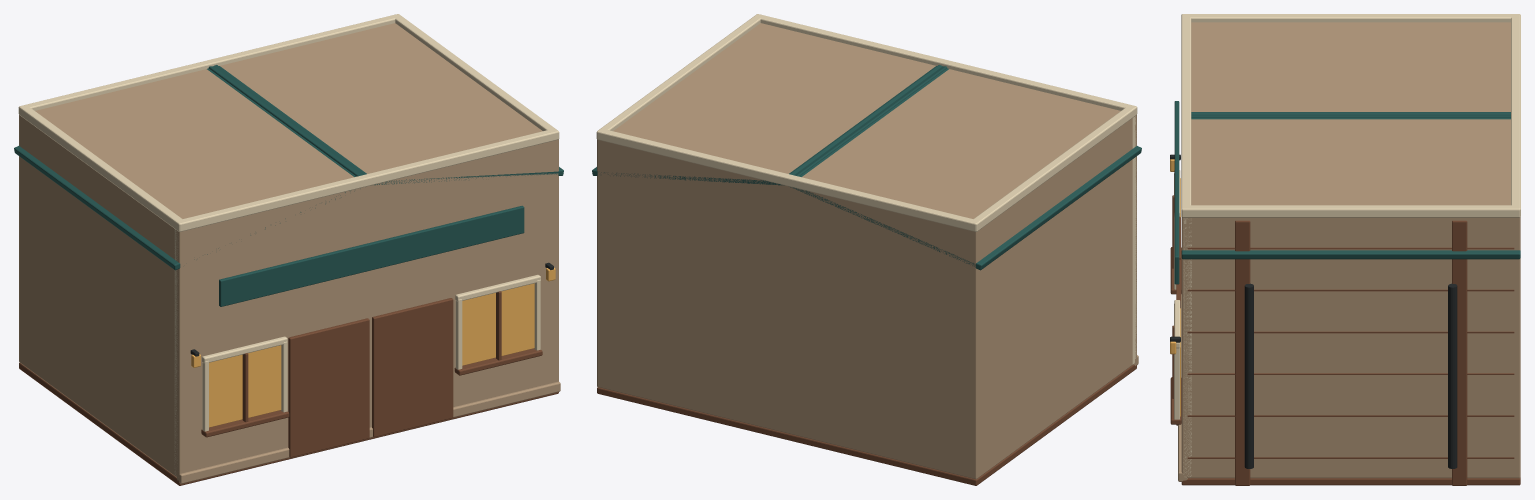
File: NQ-BLD-13.glb
The picture shows the model from 3 angles, left to right: view 1: azimuth 30°, elevation 25°; view 2: azimuth 150°, elevation 25°; view 3: azimuth 270°, elevation 25°; orthographic projection. The views are drawn at different scales.
Parts seen in each view (by area): view 1: ClosedSupportingVolume, LoadingDoorLeaf.001, LoadingDoorLeaf, NQ-SGN-13, CreamRoofCornice, WindowGraphicProxy, WindowGraphicProxy.001, CreamRoofCornice.001, PitchedRoofPanel, CreamSideCornice, PlinthBand, Floor (+7 smaller); view 2: ClosedSupportingVolume, CreamRoofCornice.001, Floor, PitchedRoofPanel, CreamRoofCornice, CreamSideCornice, CreamSideCornice.001, PitchedRoofPanel.001, CornerTrim; view 3: ClosedSupportingVolume, PitchedRoofPanel.001, CreamSideCornice.001, SideBrickPilaster.001, SideBrickPilaster, CreamSideCornice, Floor, CreamRoofCornice, CreamRoofCornice.001, RightWallPipe.001, RightWallPipe, PitchedRoofPanel (+9 smaller).
Boxes of the visible parts, box(x1,y1,x2,y2) form: ClosedSupportingVolume: box(19, 23, 558, 478); LoadingDoorLeaf.001: box(372, 298, 453, 437); LoadingDoorLeaf: box(288, 318, 369, 457); NQ-SGN-13: box(219, 205, 524, 306); CreamRoofCornice: box(178, 128, 558, 231); WindowGraphicProxy: box(209, 345, 281, 427); WindowGraphicProxy.001: box(462, 283, 534, 365); CreamRoofCornice.001: box(20, 14, 400, 110); PitchedRoofPanel: box(14, 65, 365, 270); CreamSideCornice: box(18, 106, 185, 231); PlinthBand: box(176, 381, 560, 483); Floor: box(19, 362, 558, 485); ClosedSupportingVolume: box(597, 23, 1136, 479); CreamRoofCornice.001: box(597, 128, 977, 231); Floor: box(597, 364, 1136, 485); PitchedRoofPanel: box(790, 65, 1141, 270); CreamRoofCornice: box(755, 14, 1135, 110); CreamSideCornice: box(971, 106, 1137, 231); CreamSideCornice.001: box(596, 14, 762, 138); PitchedRoofPanel.001: box(592, 66, 947, 185); CornerTrim: box(1132, 116, 1136, 364); ClosedSupportingVolume: box(1181, 22, 1520, 478); PitchedRoofPanel.001: box(1181, 112, 1520, 259); CreamSideCornice.001: box(1182, 205, 1520, 217); SideBrickPilaster.001: box(1452, 220, 1467, 485); SideBrickPilaster: box(1235, 220, 1250, 485); CreamSideCornice: box(1182, 14, 1519, 22); Floor: box(1181, 477, 1520, 485); CreamRoofCornice: box(1181, 14, 1191, 216); CreamRoofCornice.001: box(1511, 14, 1520, 216); RightWallPipe.001: box(1448, 283, 1457, 468); RightWallPipe: box(1244, 283, 1253, 468); PitchedRoofPanel: box(1191, 114, 1510, 117).
Size of the model in its own units: 31.05 by 19.82 by 22.77.
